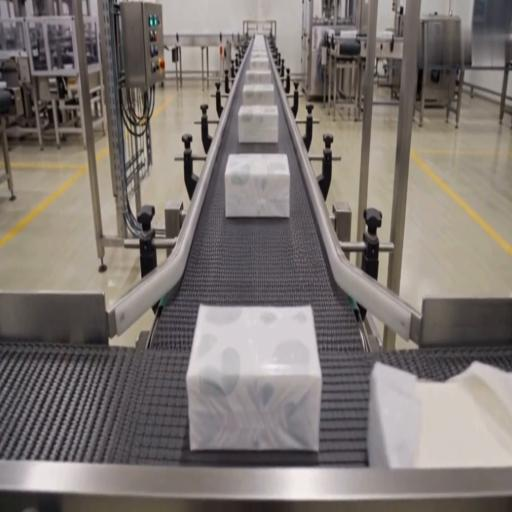defective: (368, 360, 511, 472)
good: (187, 303, 319, 453), (224, 152, 290, 219), (236, 104, 280, 144), (241, 83, 276, 107), (243, 68, 273, 85), (249, 35, 270, 56), (340, 30, 358, 38)
